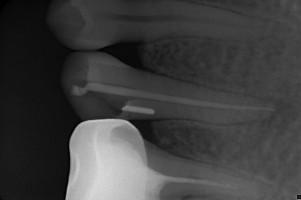Furcation Involvement: (258, 82, 301, 132)
